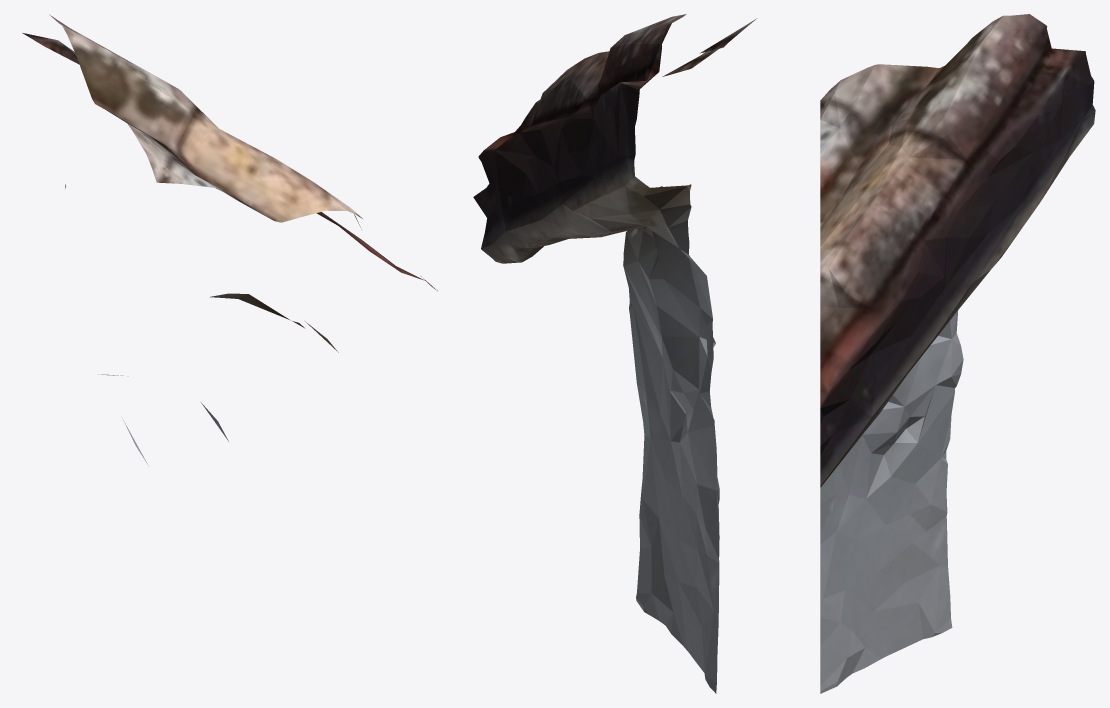
3 views of the same model, side by side, from view 1: azimuth 30°, elevation 25°; view 2: azimuth 150°, elevation 25°; view 3: azimuth 270°, elevation 25° (orthographic). The views are drawn at different scales.
Bounding box in the file's own units: 0.623 × 1.31 × 0.5338.
1 material, 1 textured.
